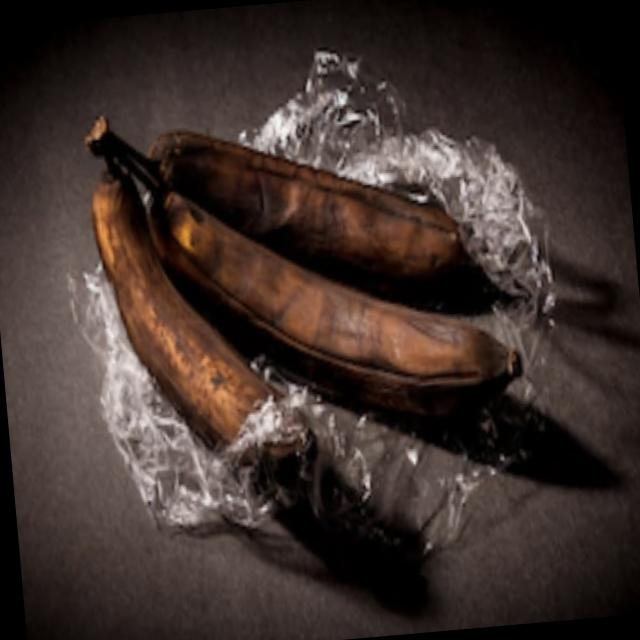rotten-banana: (162, 164, 531, 432), (88, 170, 280, 486), (152, 101, 476, 288)
